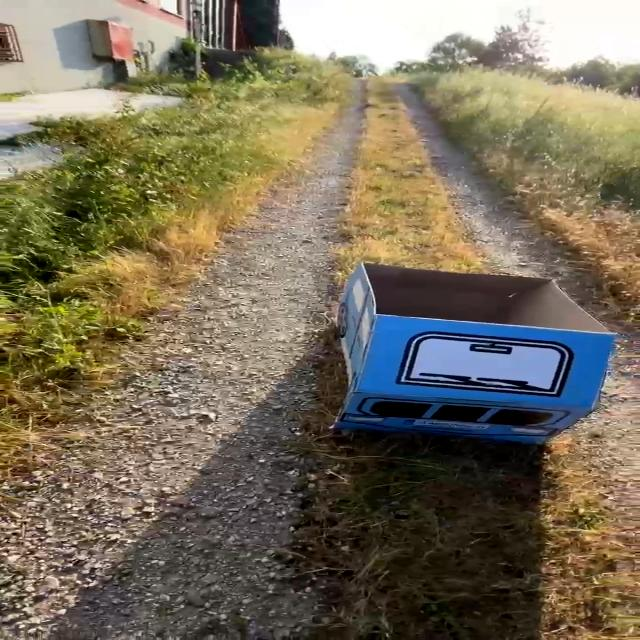blue_car: (215, 245, 640, 457)
